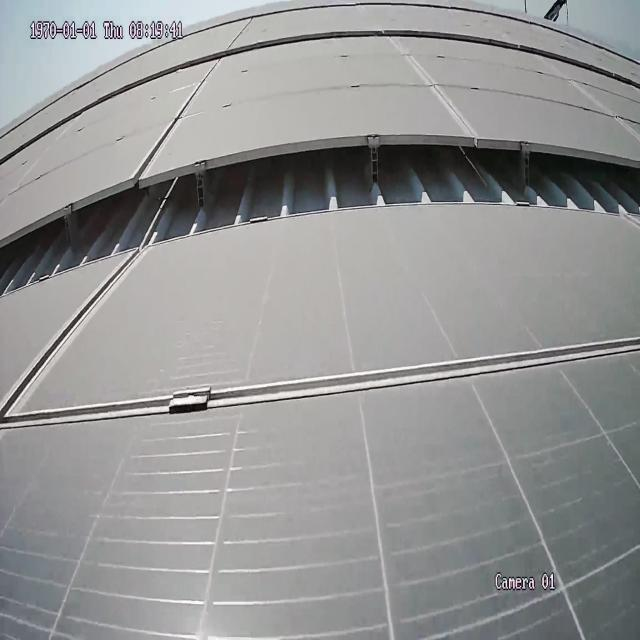interior panel: (0, 271, 640, 449), (135, 74, 213, 164), (398, 48, 481, 131)
outher panel: (0, 137, 636, 302)
